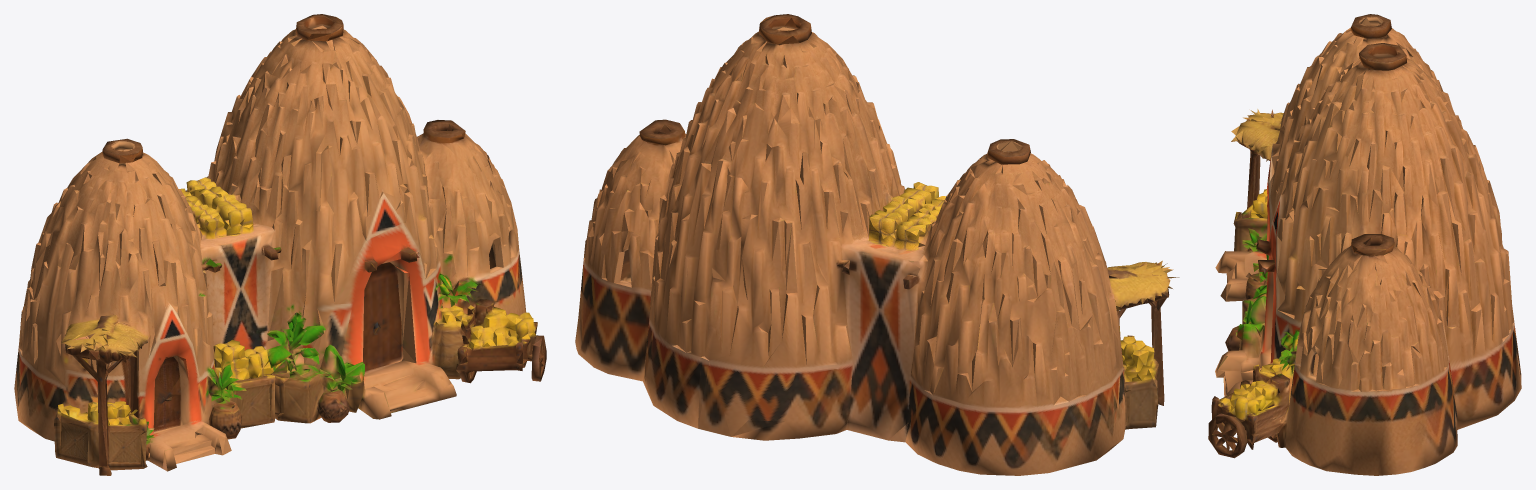
The picture shows the model from 3 angles, left to right: view 1: azimuth 30°, elevation 25°; view 2: azimuth 150°, elevation 25°; view 3: azimuth 270°, elevation 25°; orthographic projection. The views are drawn at different scales.
Visible parts, largest first — view 1: output_unwrapped; view 2: output_unwrapped; view 3: output_unwrapped.
Boxes of the visible parts, box(x1,y1,x2,y2) form: output_unwrapped: box(14, 14, 546, 475); output_unwrapped: box(575, 14, 1179, 475); output_unwrapped: box(1208, 14, 1521, 475).
Size of the model in its own units: 10.9 by 7 by 5.91.
Materials: 1 (1 with a texture image).
